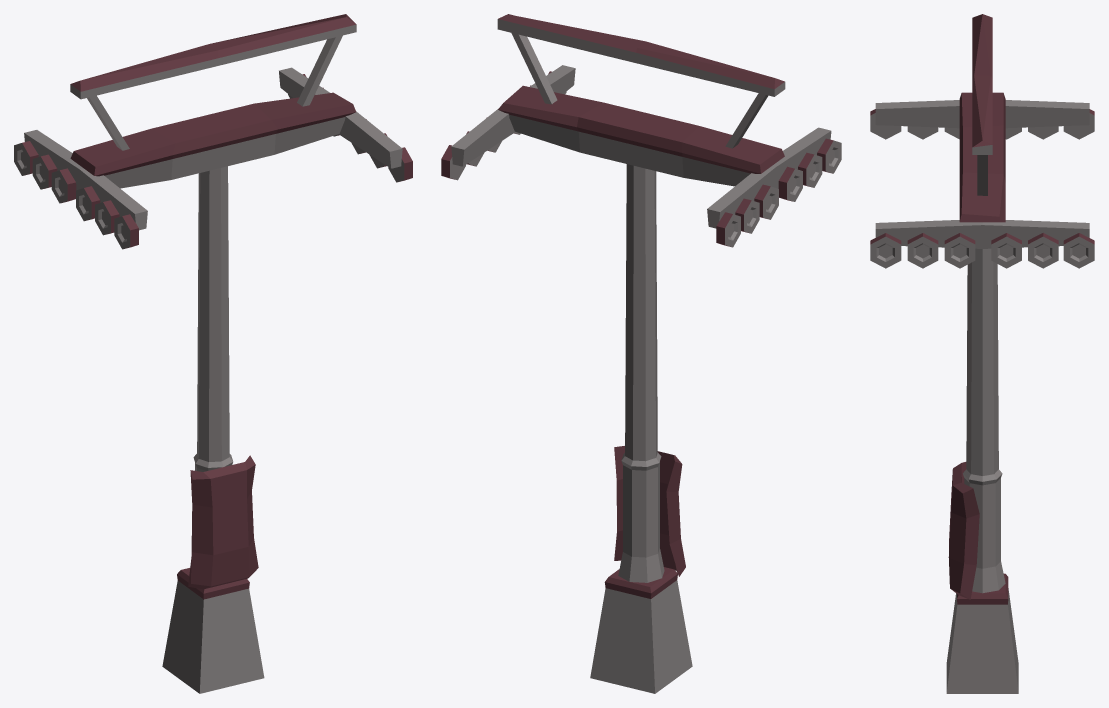
Rendered from ski-lift-stake.fbx.
3 renders of one model, left to right at view 1: azimuth 30°, elevation 25°; view 2: azimuth 150°, elevation 25°; view 3: azimuth 270°, elevation 25°, orthographic. The views are drawn at different scales.
Parts seen in each view (by area): view 1: ski-lift-stake; view 2: ski-lift-stake; view 3: ski-lift-stake.
Part boxes in pixels (box(x1,y1,x2,y2)): ski-lift-stake: box(14, 14, 412, 693); ski-lift-stake: box(441, 14, 841, 693); ski-lift-stake: box(870, 14, 1094, 693).
Size of the model in its own units: 4.28 by 9.04 by 3.04.
